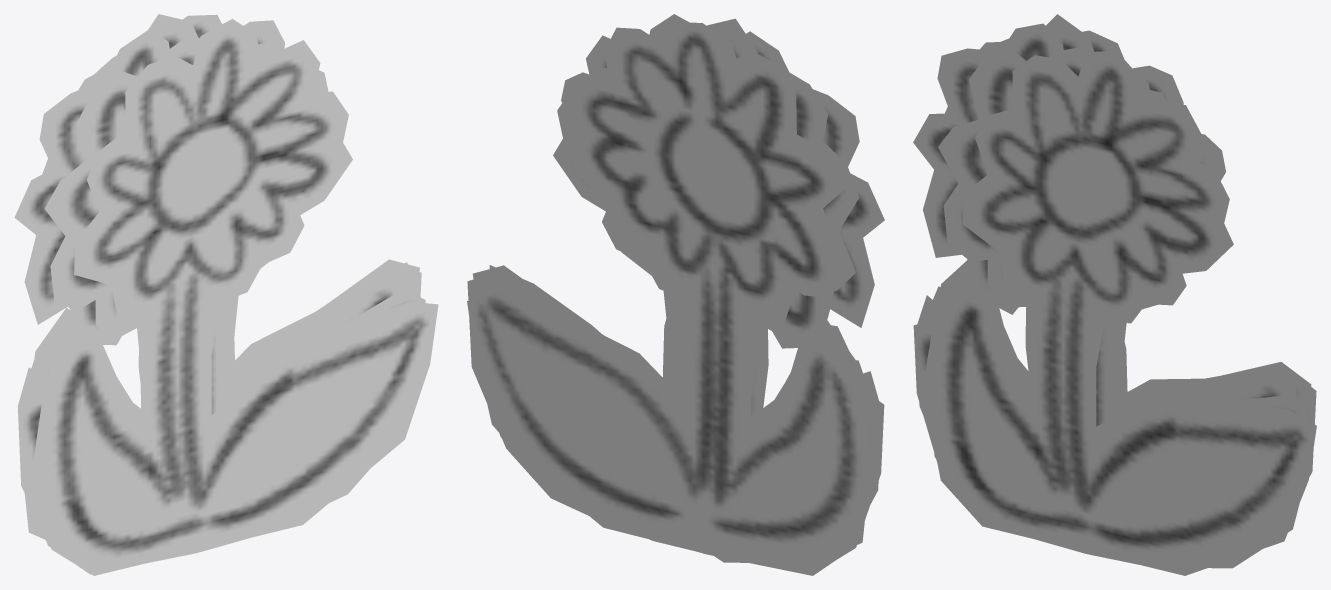
File: Sunflower.fbx
The picture shows the model from 3 angles, left to right: view 1: azimuth 30°, elevation 25°; view 2: azimuth 150°, elevation 25°; view 3: azimuth 330°, elevation 25°; orthographic projection. The views are drawn at different scales.
Parts seen in each view (by area): view 1: Sunflower5, Sunflower4, Sunflower3, Sunflower1, Sunflower2; view 2: Sunflower1, Sunflower3, Sunflower2, Sunflower5, Sunflower4; view 3: Sunflower5, Sunflower4, Sunflower3, Sunflower1, Sunflower2.
Boxes of the visible parts, left/top/right/bottom form: Sunflower5: left=33, top=19, right=438, bottom=575; Sunflower4: left=19, top=35, right=425, bottom=574; Sunflower3: left=14, top=30, right=409, bottom=516; Sunflower1: left=24, top=14, right=421, bottom=539; Sunflower2: left=31, top=14, right=419, bottom=383; Sunflower1: left=467, top=22, right=870, bottom=564; Sunflower3: left=489, top=31, right=884, bottom=571; Sunflower2: left=473, top=18, right=870, bottom=567; Sunflower5: left=467, top=14, right=856, bottom=558; Sunflower4: left=487, top=73, right=884, bottom=575; Sunflower5: left=923, top=50, right=1316, bottom=575; Sunflower4: left=913, top=47, right=1308, bottom=568; Sunflower3: left=913, top=23, right=1297, bottom=416; Sunflower1: left=934, top=30, right=1316, bottom=476; Sunflower2: left=933, top=14, right=1311, bottom=414.
Bounding box in the file's own units: 16.13 × 19.97 × 0.544.
Materials: 1 (1 with a texture image).
